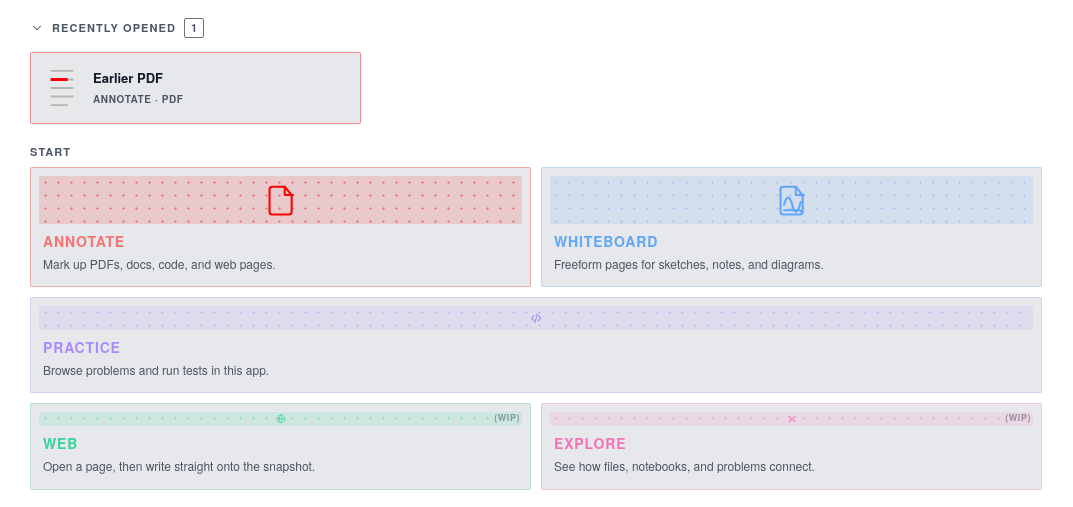
Test: folds Recently opened to its heading, and remembers the choice
Expected: the number of buttons with class "lc-home-recent" is 1, [30,52,361,124]
Click the button with class "lc-home-recents-toggle" at coordinates (117, 28), box [24,12,210,44]
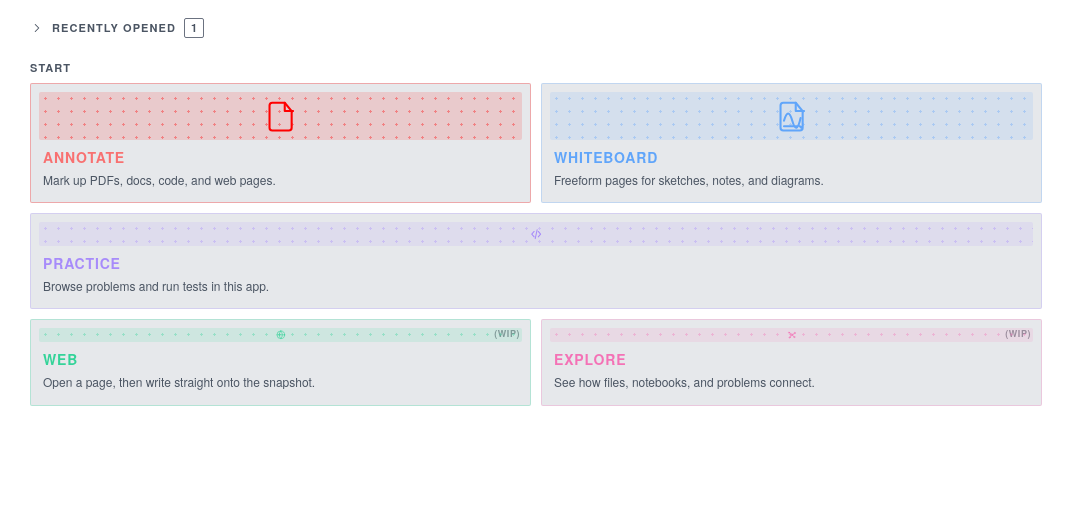
Expected: no buttons with class "lc-home-recent" are shown
